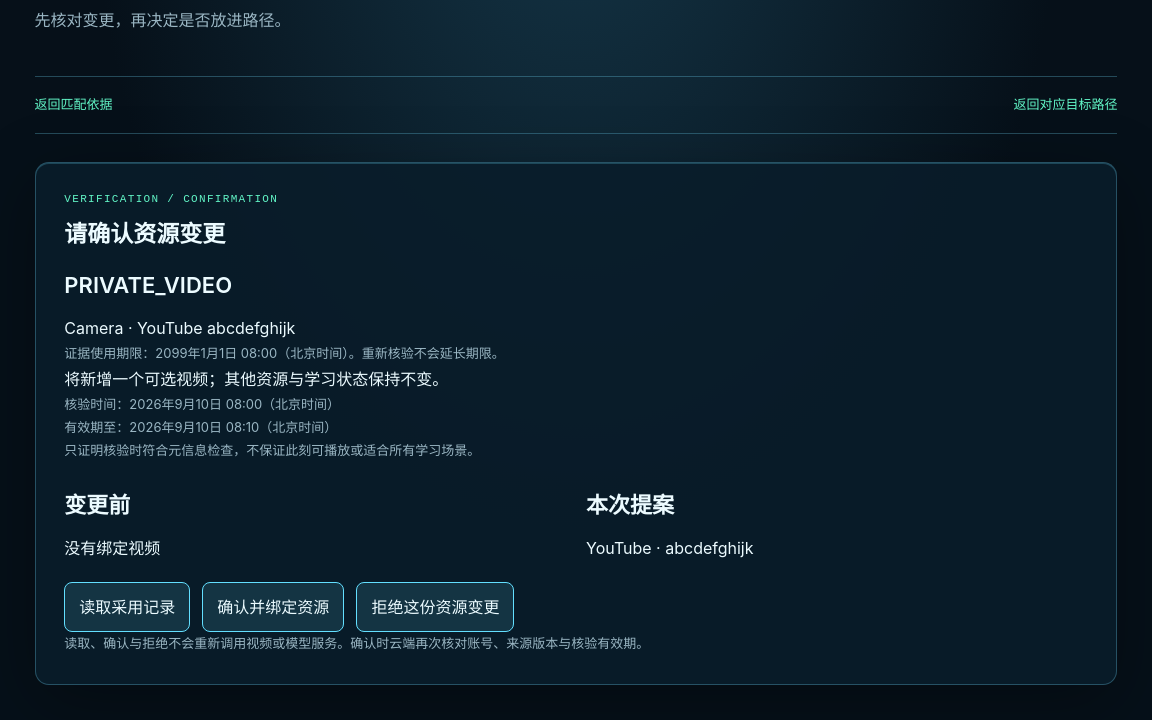
Test: unknown confirmation blocks another write until an explicit read resolves its outcome
The width and height of the screenshot is (1152, 720).
(page scrolled)
Step 1. Click the button "确认并绑定资源" → (273, 607), box [202,582,344,632]
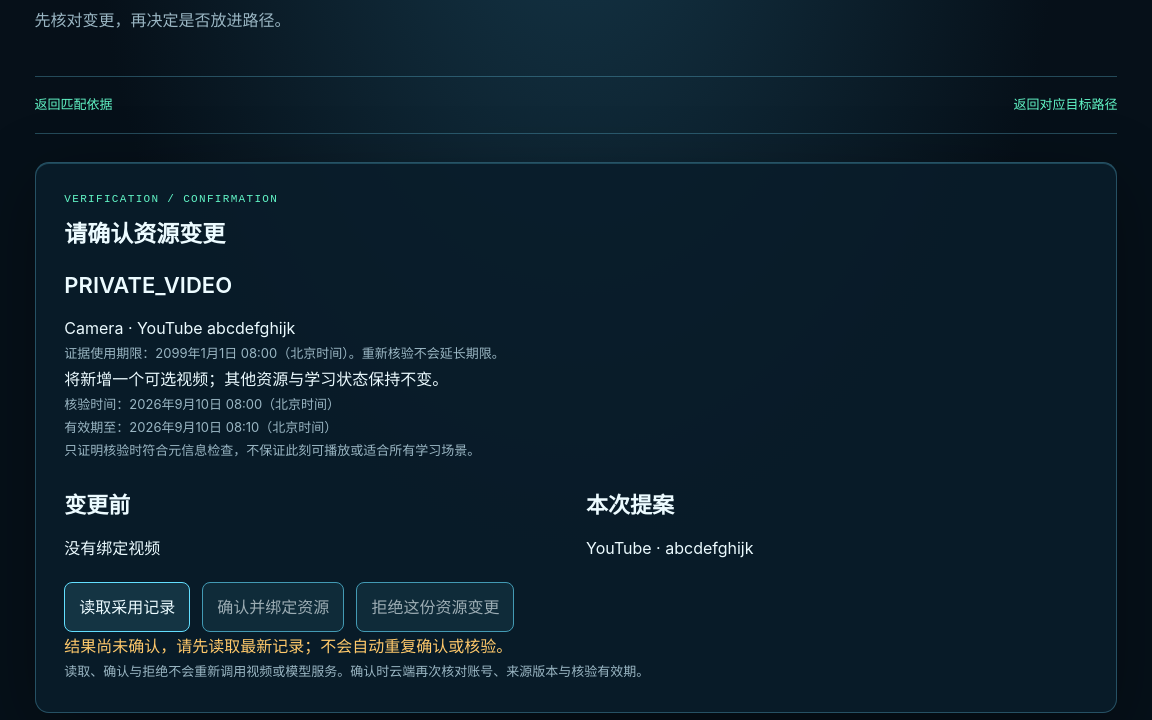
Expected: the button "确认并绑定资源" is disabled, [202,582,344,632]
Expected: the button "拒绝这份资源变更" is disabled, [356,582,514,632]
Step 2. Click the button "读取采用记录" → (127, 607), box [64,582,190,632]
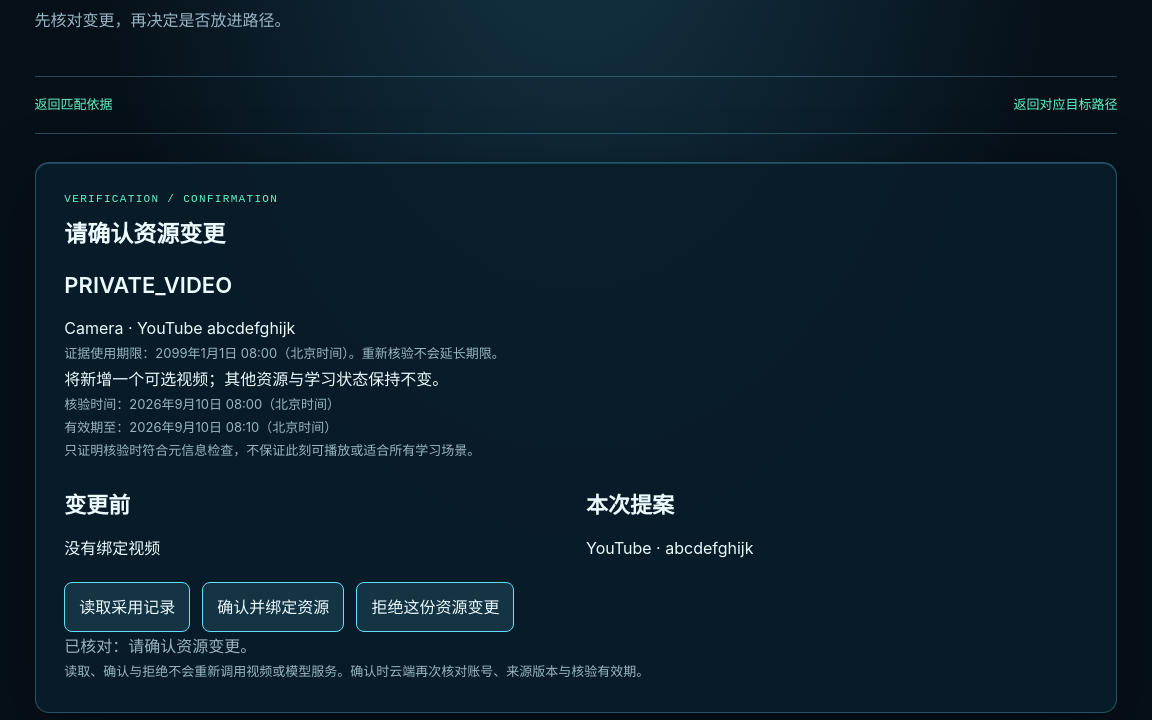
Expected: the button "确认并绑定资源" is enabled, [202,582,344,632]
